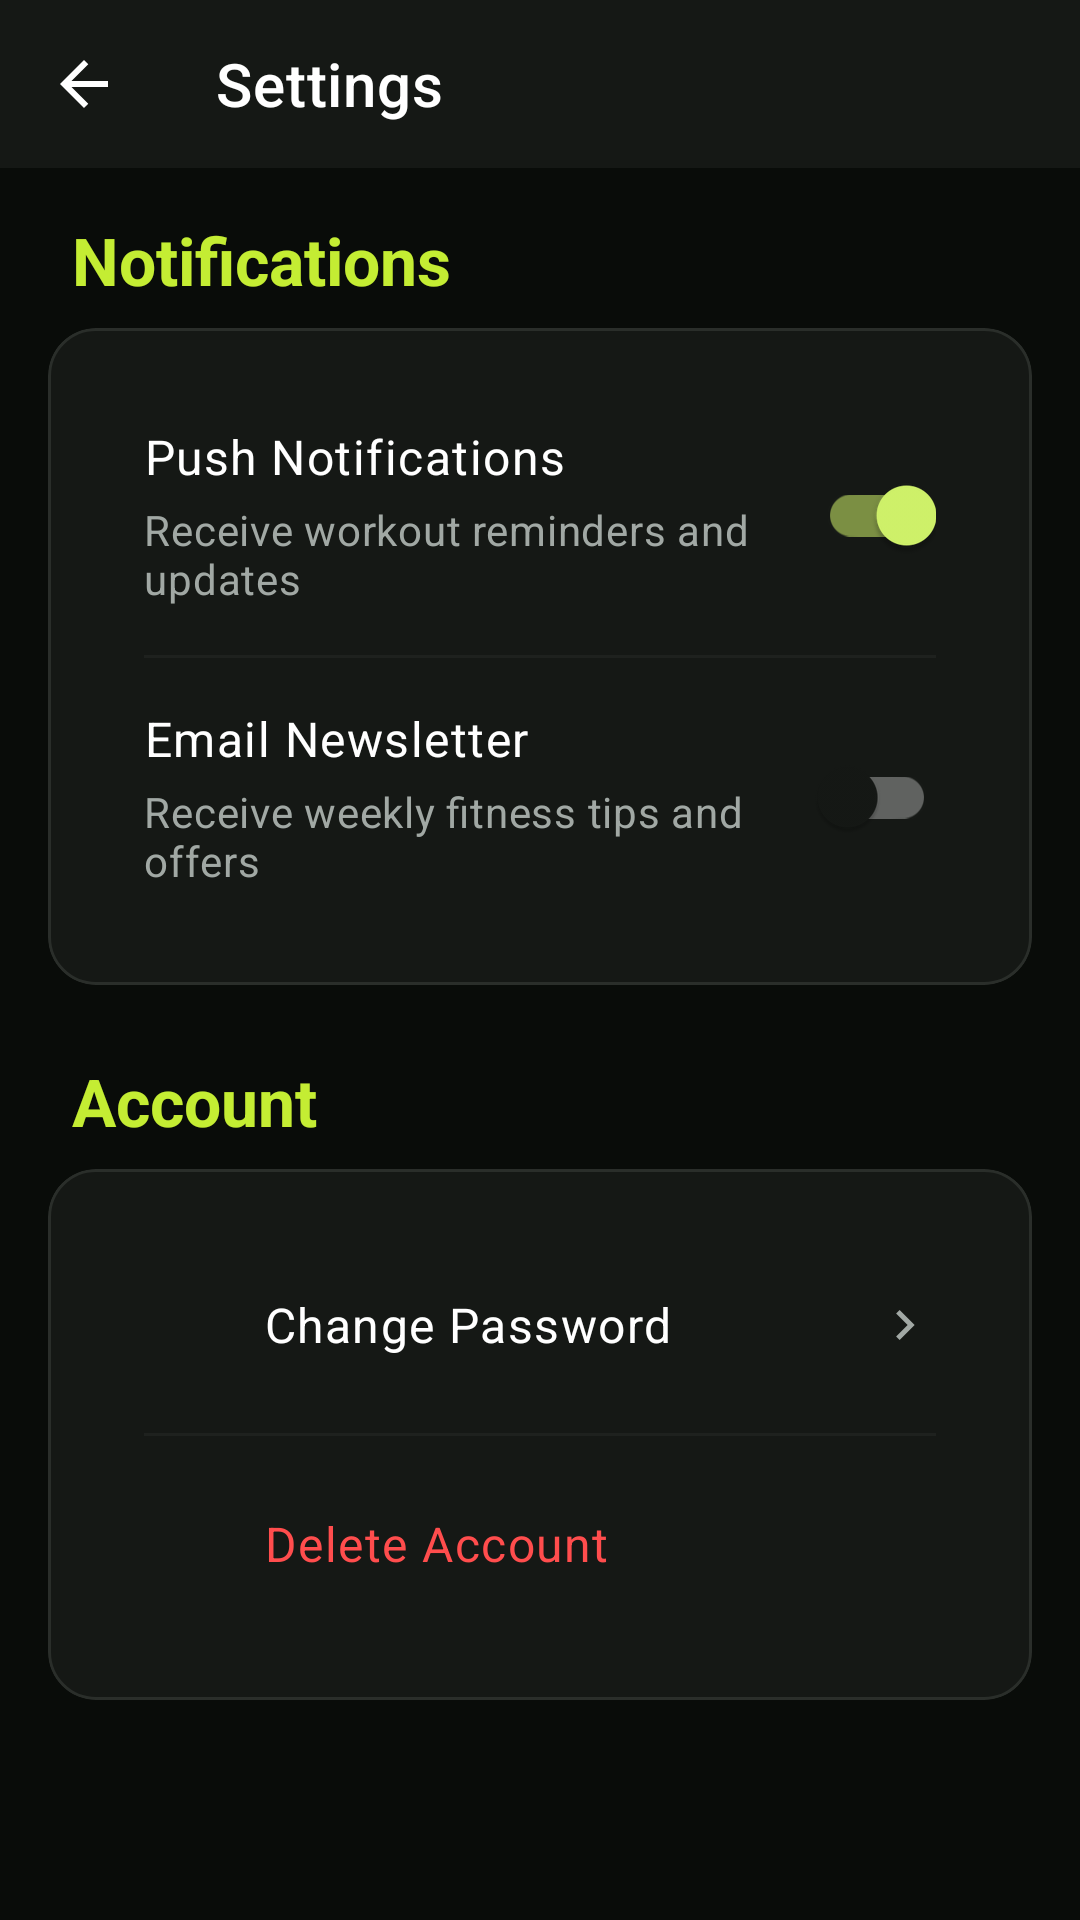

Where to tap for icons on this 1080x1920 app screen, as (x,y):
chevron right: (905,1325)
